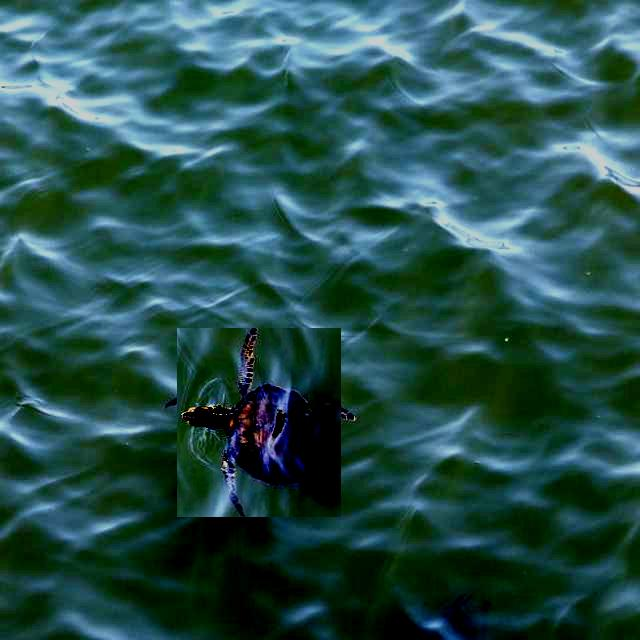Sea turtle: (170, 334, 348, 510)
